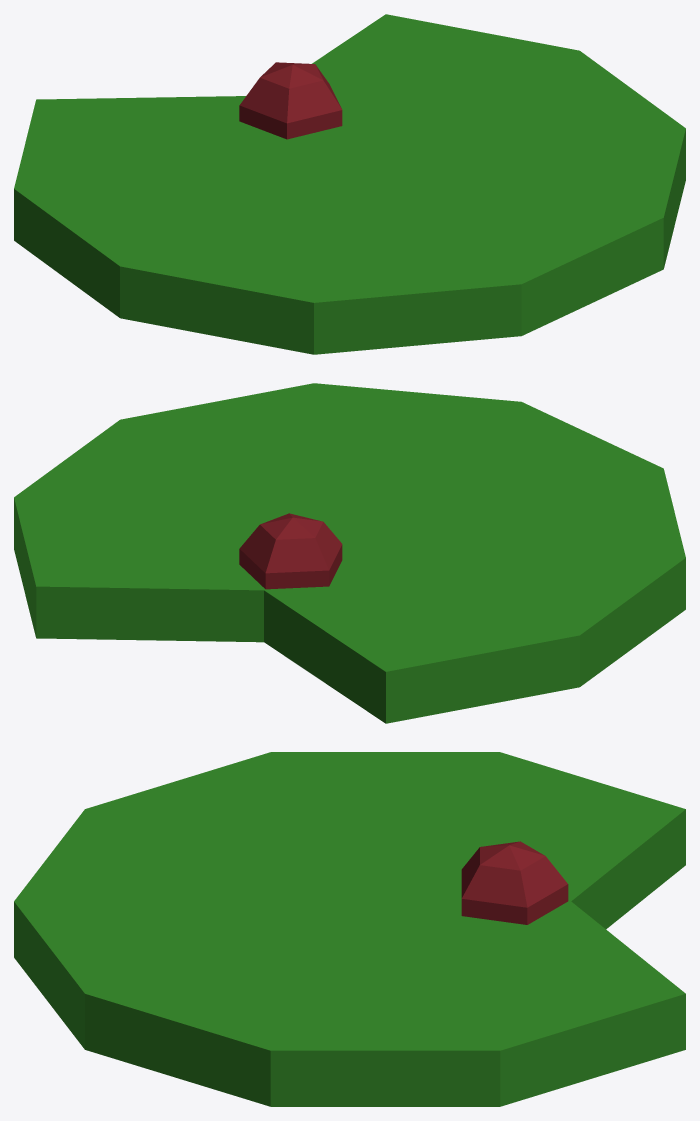
The model's file is Noak Lily.fbx.
3 views of the same model, one above another, from view 1: azimuth 30°, elevation 25°; view 2: azimuth 150°, elevation 25°; view 3: azimuth 270°, elevation 25° (orthographic). The views are drawn at different scales.
Parts seen in each view (by area): view 1: Noak Lily, Noak Lily Flower; view 2: Noak Lily, Noak Lily Flower; view 3: Noak Lily, Noak Lily Flower.
Boxes of the visible parts, x1=… form: Noak Lily: x1=14, y1=14, x2=685, y2=354; Noak Lily Flower: x1=239, y1=62, x2=342, y2=139; Noak Lily: x1=14, y1=383, x2=685, y2=723; Noak Lily Flower: x1=239, y1=513, x2=342, y2=589; Noak Lily: x1=14, y1=752, x2=685, y2=1106; Noak Lily Flower: x1=461, y1=841, x2=568, y2=924.
Size of the model in its own units: 57.06 by 10 by 54.27.
